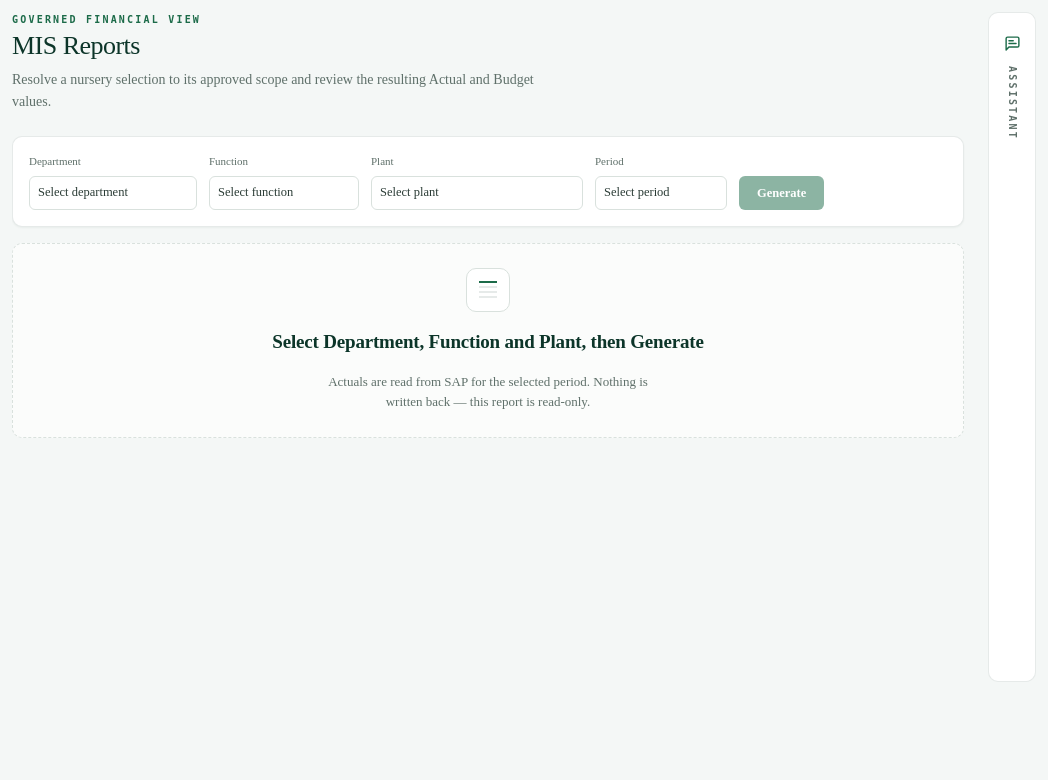
Test: with no rendered statement the dock says so locally and submits no grounded ask
The width and height of the screenshot is (1048, 780).
Click the button "Assistant" at (1012, 347), box [988,12,1036,682]
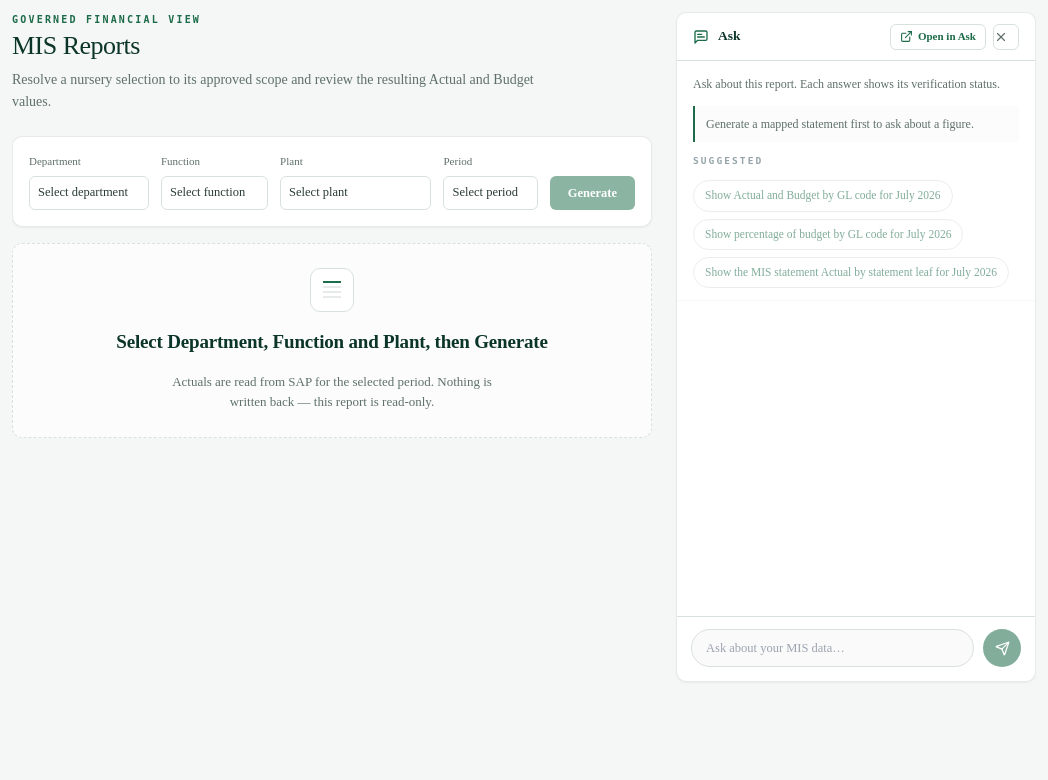
Check: the message shows "Generate a mapped statement first", box [706,117,974,131]
Check: the button named "Send question" is disabled, box [983,629,1021,667]
